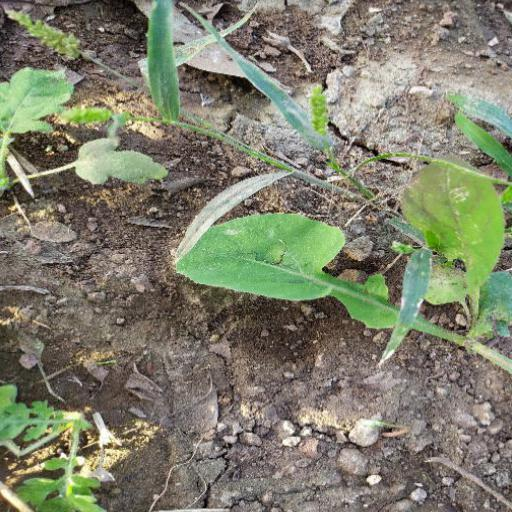weed: (162, 76, 512, 384), (1, 68, 152, 208)
